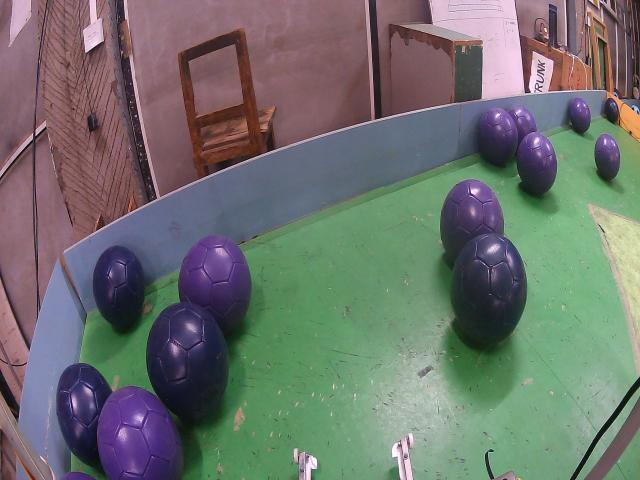jambhalya: (98, 387, 184, 480), (179, 235, 251, 333), (440, 180, 505, 262), (479, 105, 536, 165), (516, 132, 558, 195), (595, 133, 620, 180), (508, 105, 536, 146), (569, 97, 591, 133)
kaalyya: (146, 302, 229, 418), (451, 233, 528, 343), (56, 363, 111, 467), (92, 245, 145, 328), (604, 98, 619, 123)
